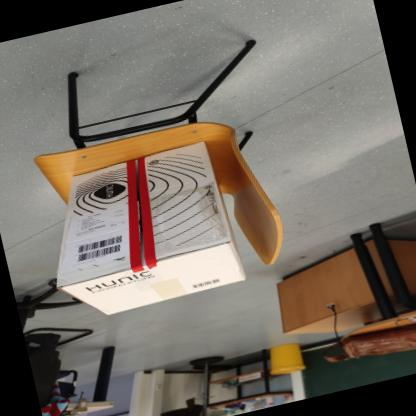box: (38, 130, 270, 327)
